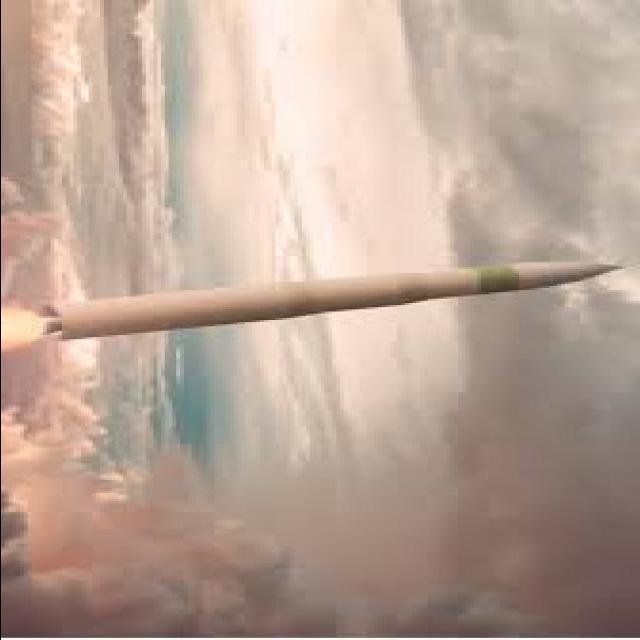missile: (52, 255, 626, 340)
